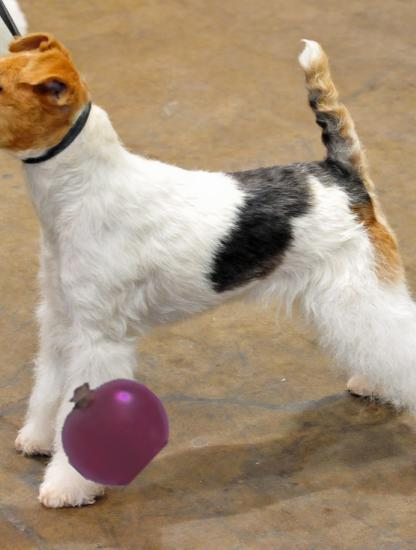Redcurrant: (56, 373, 166, 483)
